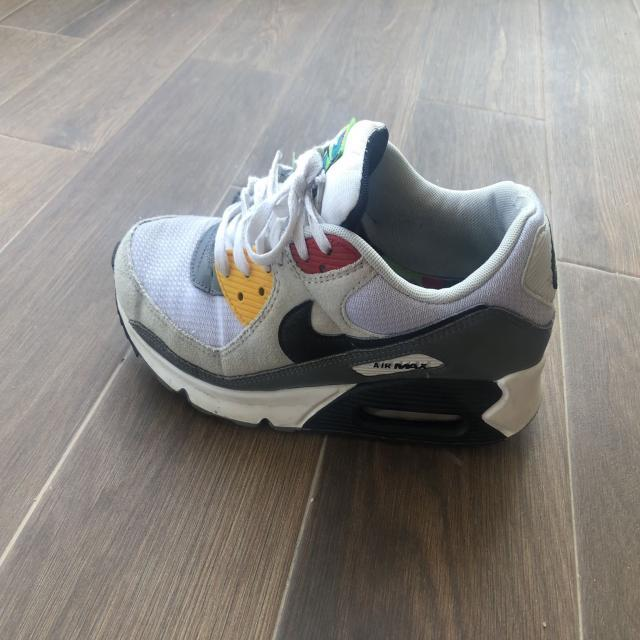shoe: (110, 117, 559, 446)
